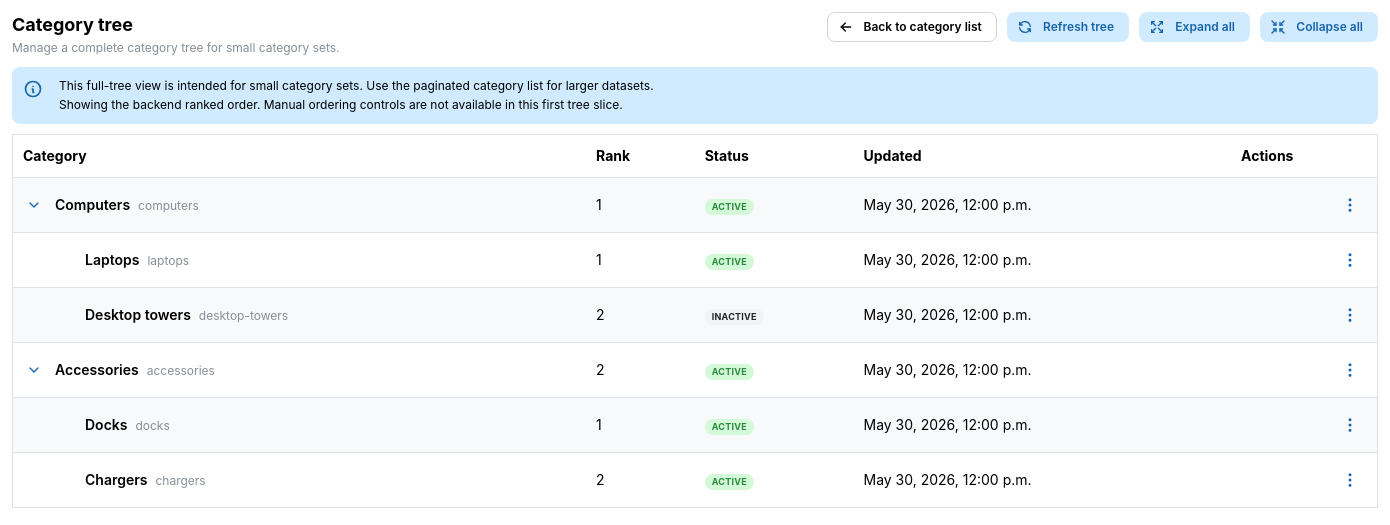
Test: SmallCategoryTreePage row actions › hides write row actions for read-only admins
This screenshot has width=1390, height=525.
Click the button named "More actions for Laptops".
click(1350, 260)  # box [1333,243,1367,277]
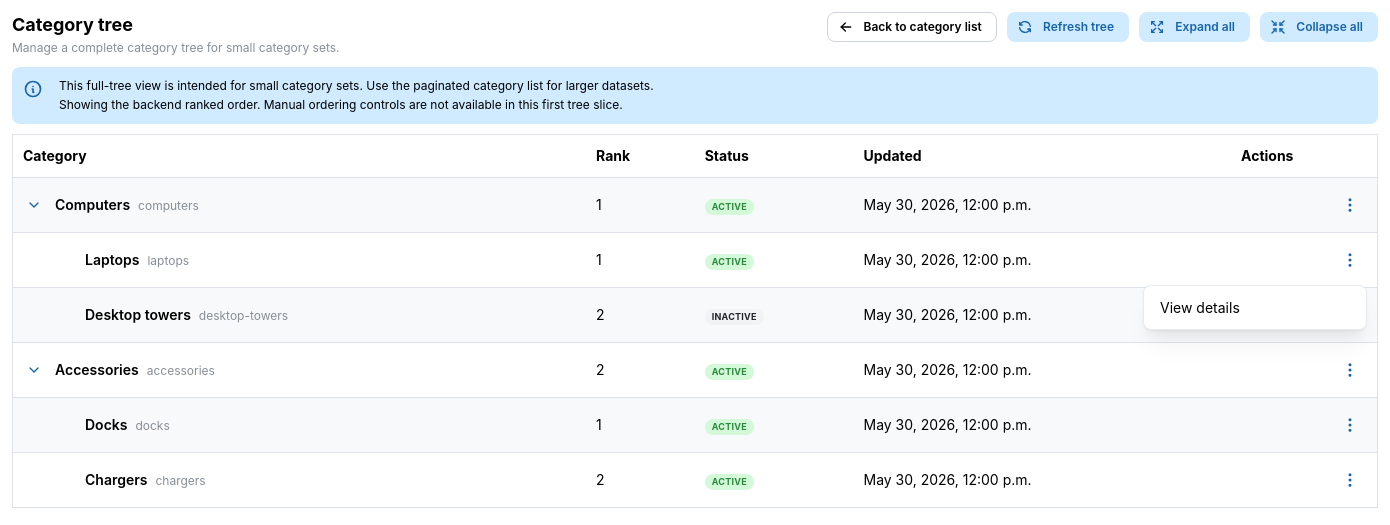
Expected: the menu item "View details" is shown, [1160,299,1240,316]
